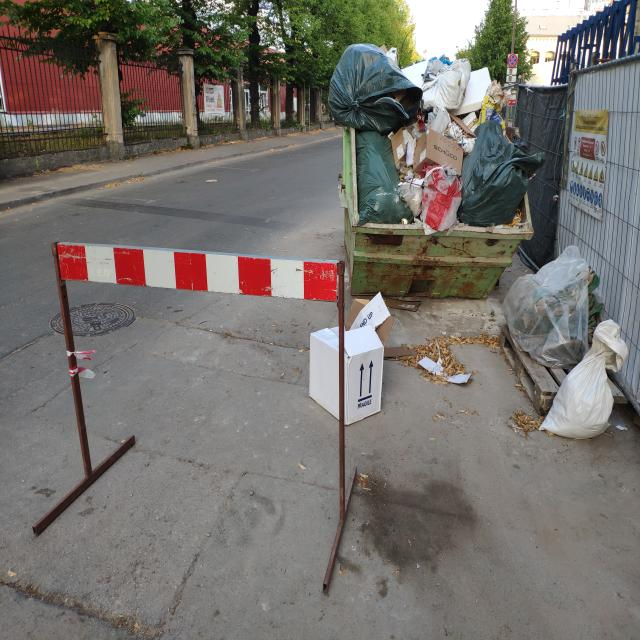entulho: (499, 238, 600, 366), (532, 322, 636, 444), (304, 324, 384, 416), (354, 292, 401, 339)
lixo domiciliar: (459, 120, 538, 229), (330, 45, 424, 135), (355, 126, 413, 226), (404, 162, 464, 231), (414, 52, 476, 116), (407, 124, 471, 181), (455, 68, 491, 118), (418, 356, 444, 374), (447, 373, 472, 384), (441, 54, 453, 66)
